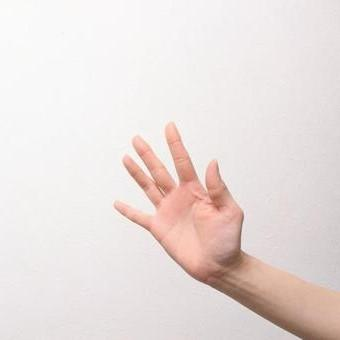pa-: (111, 121, 244, 278)
